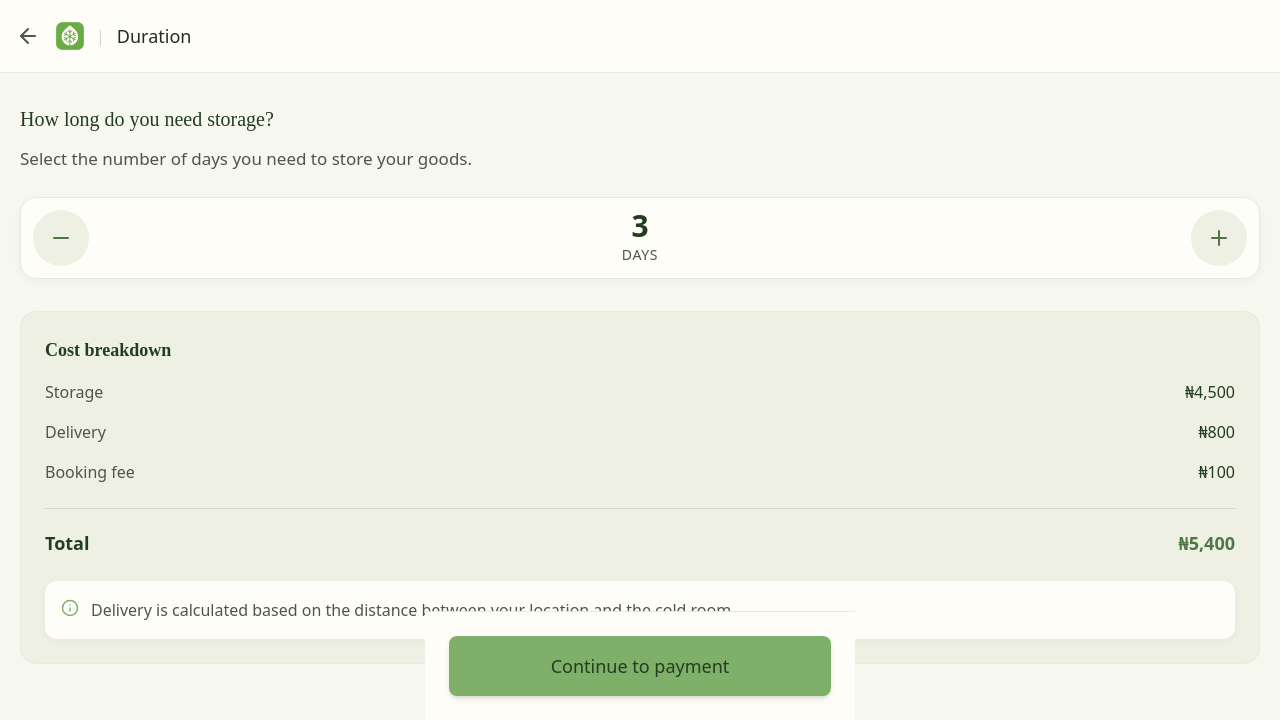
Scenario: Duration screen › disables minus at 1 day
Click the button named "Remove a day" at (61, 238), box [33,210,89,266]
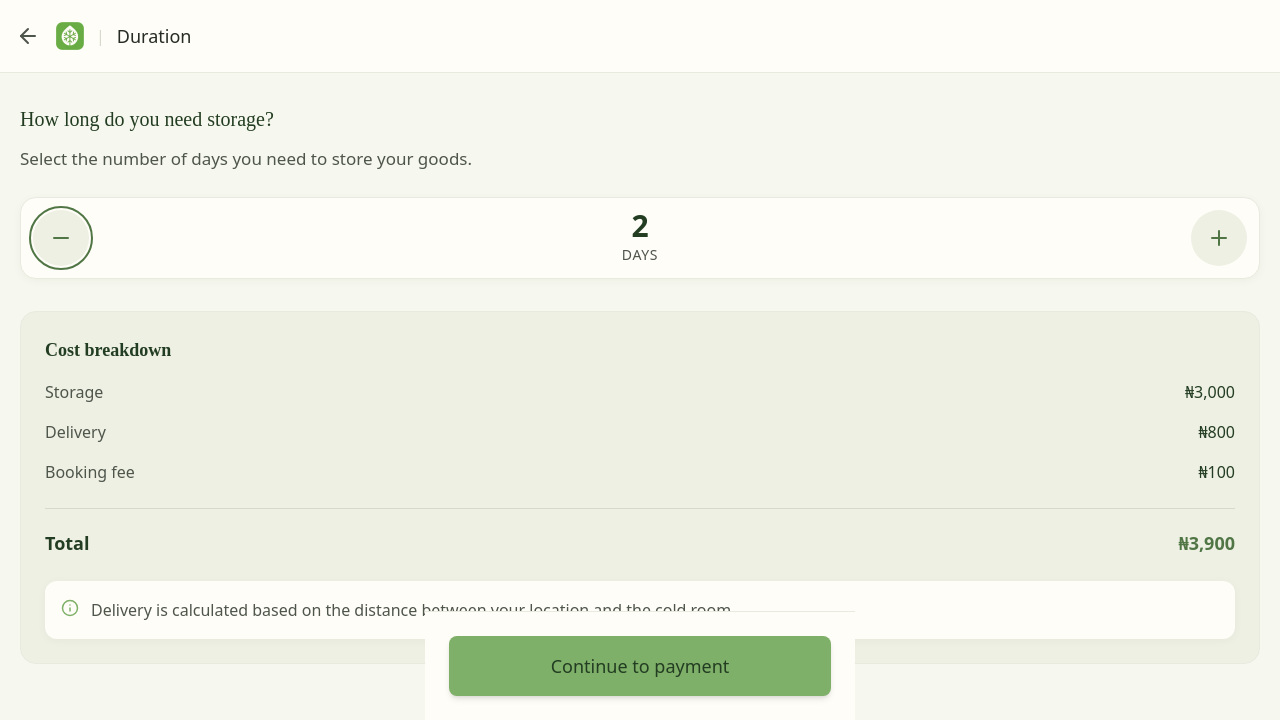
Click the button named "Remove a day" at (61, 238), box [33,210,89,266]
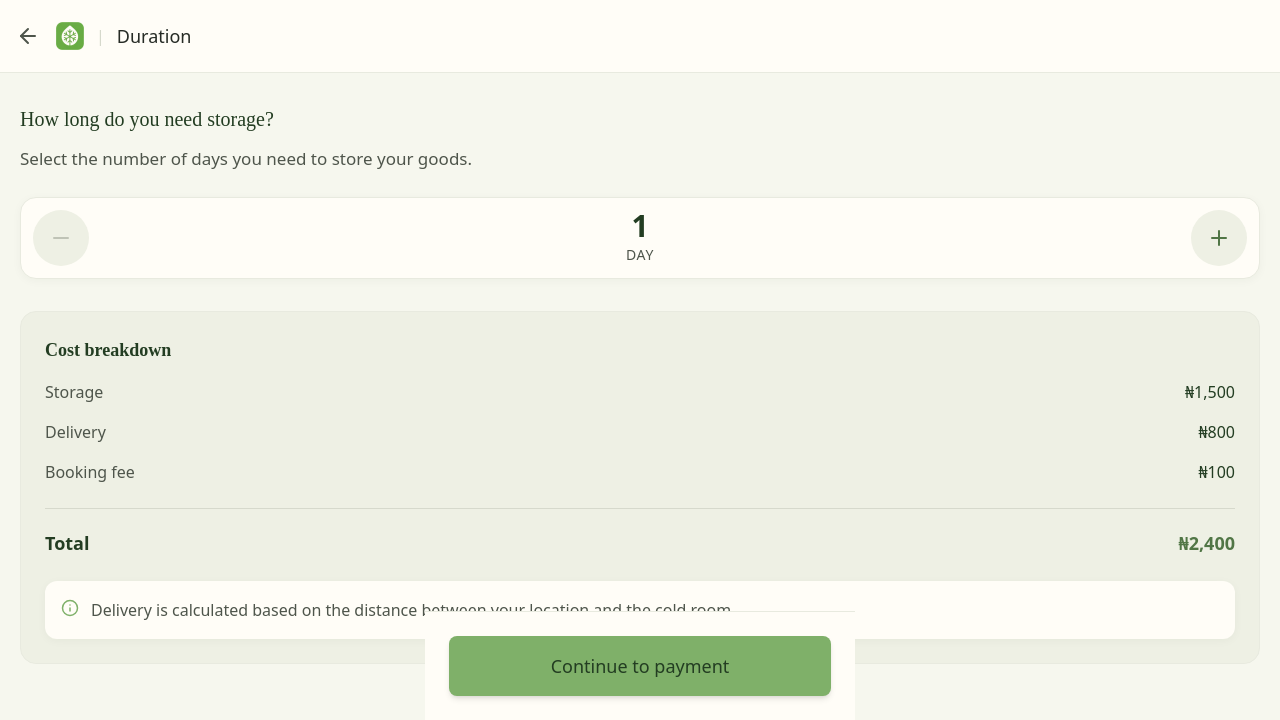
Result: the text "₦1,500" is shown at [1185,380,1235,404]
Result: the text "₦2,400" is shown at [1178,529,1235,557]
Result: the button named "Remove a day" is disabled at [33,210,89,266]
